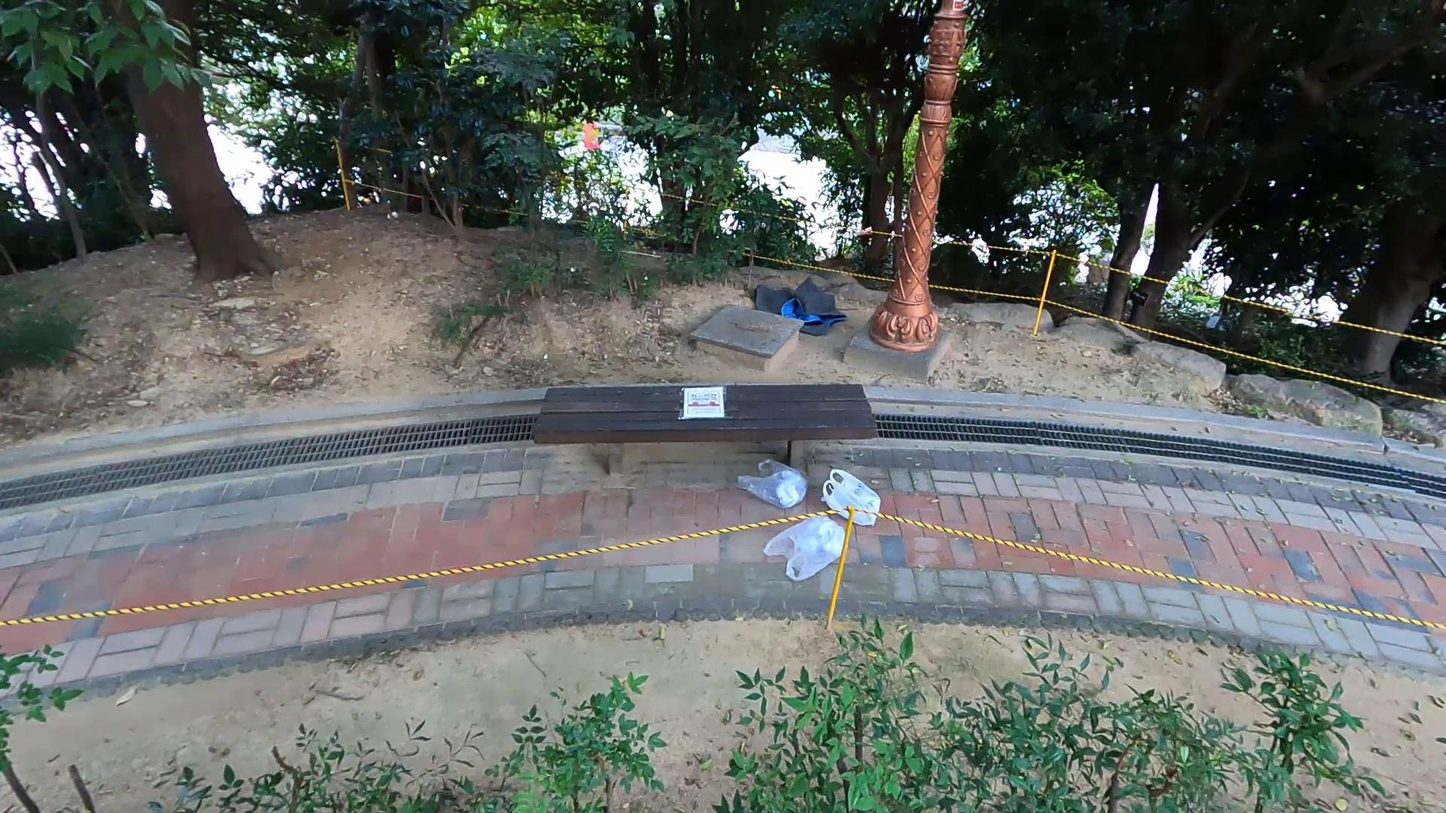trash: (764, 506, 851, 587), (751, 281, 850, 341), (738, 447, 812, 513), (823, 460, 888, 527)
